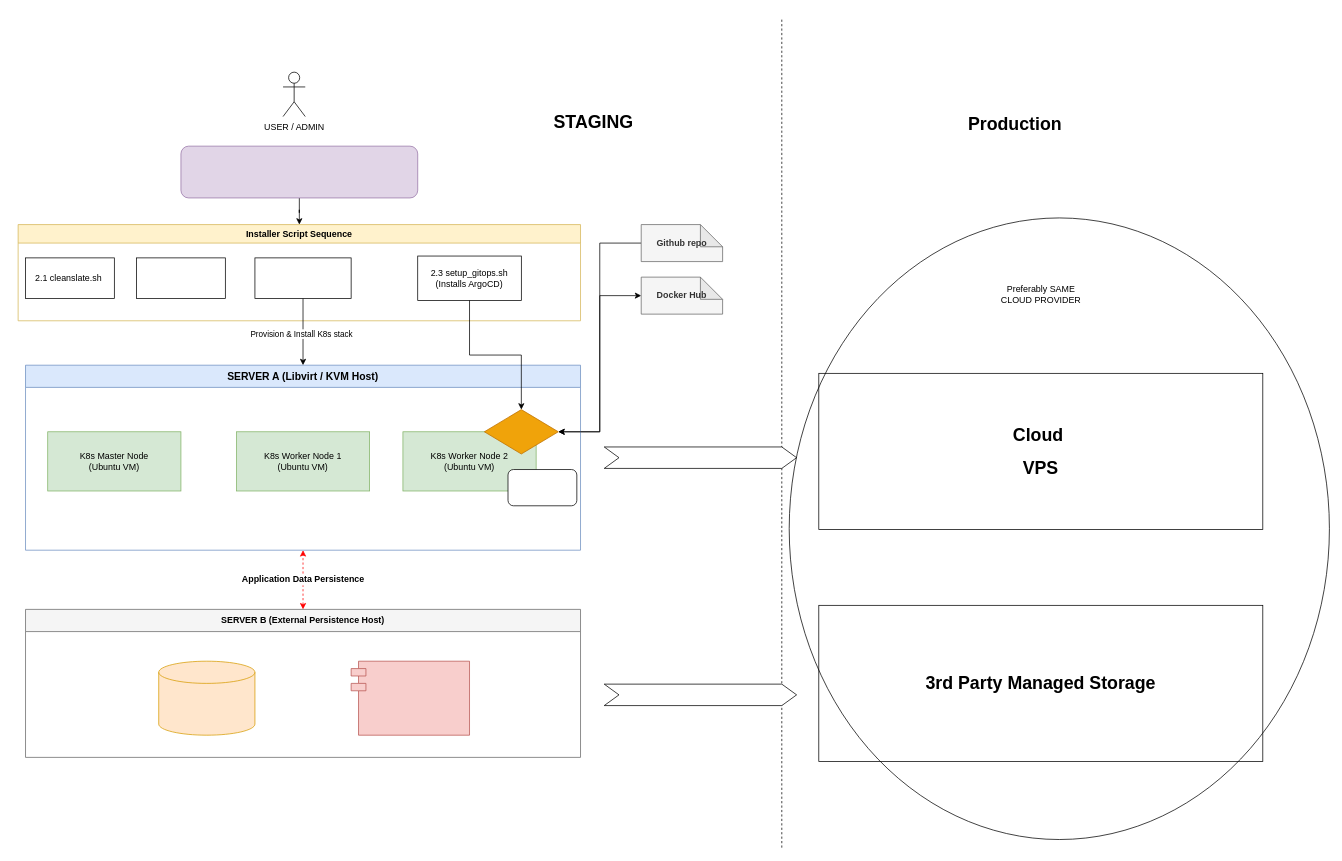
Some shapes in this 1342 by 861 pixel diagram are drawn without their labels. Here are the shapes that lost their labels. From the top down, the centre of each, then its label:
(299,171): 1. install_vplatform.sh (Global Orchestrator)
(180,278): 2. 2 unsetup.sh
(302,278): 2. 3 deploy.sh
(521,431): ArgoCD GitOps Engine
(542,487): Sonarqube
(206,697): PostgreSQL
(410,697): S3 Storage
